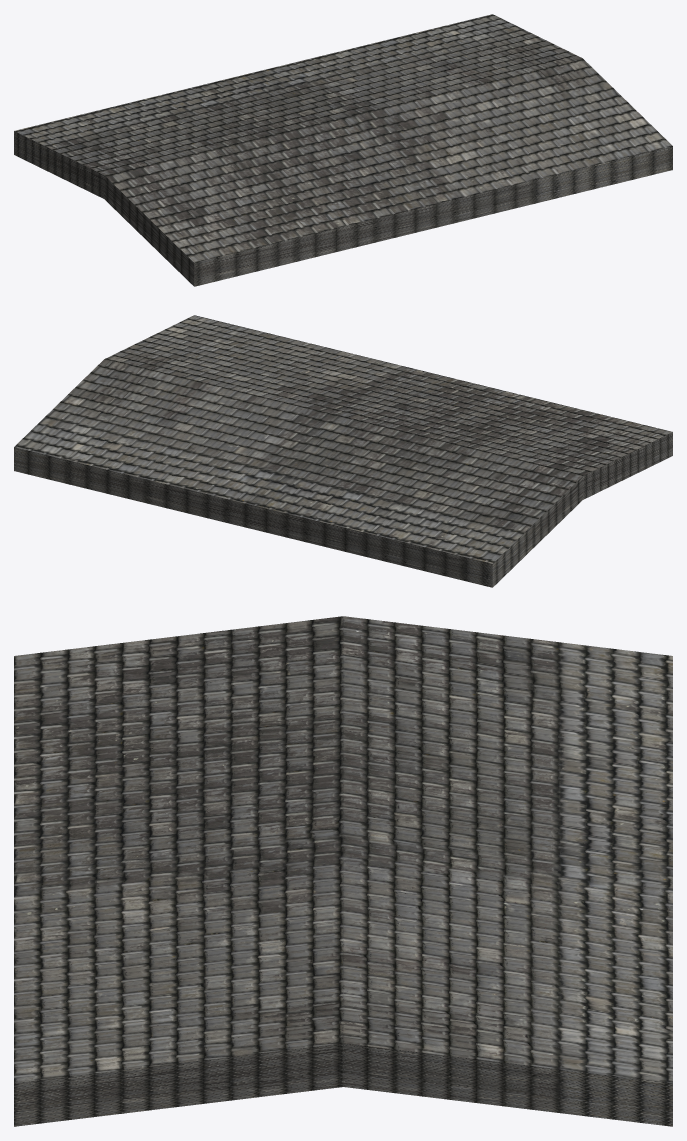
File: ceiling.glb
3 renders of one model, top to bottom at view 1: azimuth 30°, elevation 25°; view 2: azimuth 150°, elevation 25°; view 3: azimuth 270°, elevation 25°, orthographic. The views are drawn at different scales.
Visible parts, largest first — view 1: ceiling; view 2: ceiling; view 3: ceiling.
Part boxes in pixels (left/top/right/bottom): ceiling: left=14, top=14, right=672, bottom=286; ceiling: left=14, top=315, right=672, bottom=587; ceiling: left=14, top=616, right=672, bottom=1126.
Size of the model in its own units: 460 by 42 by 300.
Materials: 1 (1 with a texture image).
